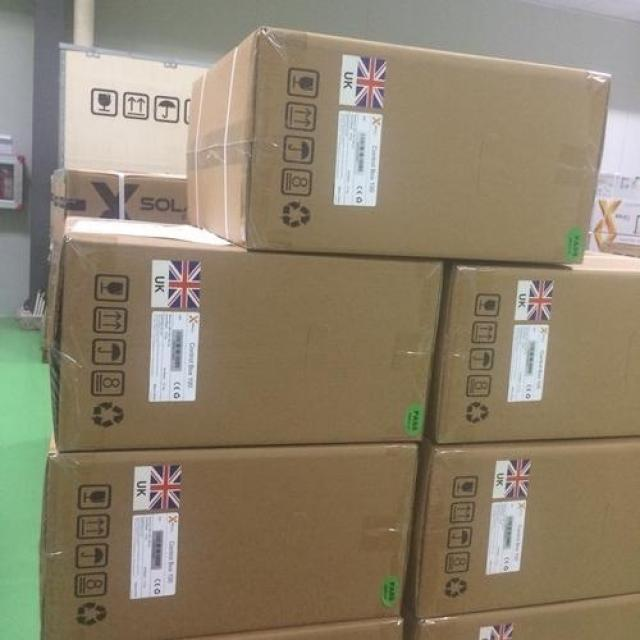box: (184, 24, 613, 264), (46, 216, 442, 452), (38, 431, 419, 640), (402, 436, 640, 617), (422, 250, 640, 443), (40, 166, 184, 364), (403, 594, 640, 640), (191, 616, 406, 640), (604, 202, 640, 237), (602, 234, 640, 259), (613, 175, 640, 204), (589, 198, 611, 233), (595, 173, 617, 201), (585, 230, 605, 250)
